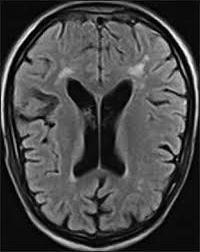Normal_Brain: (5, 3, 200, 252)
